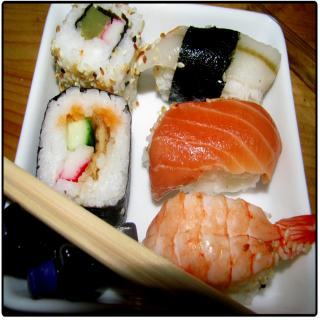Sushi: (36, 1, 316, 302), (37, 87, 129, 227)
